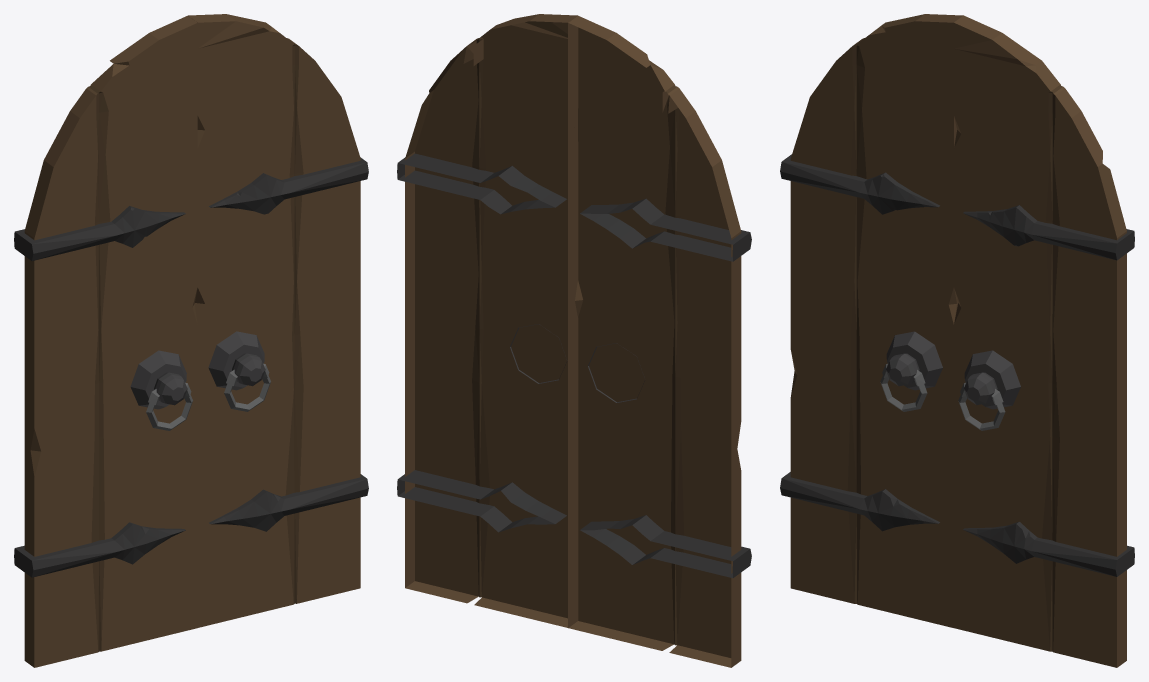
The model's file is SFHW_Building_Door_Empty.fbx.
The picture shows the model from 3 angles, left to right: view 1: azimuth 30°, elevation 25°; view 2: azimuth 150°, elevation 25°; view 3: azimuth 330°, elevation 25°; orthographic projection.
Parts seen in each view (by area): view 1: SFHW_Building_Door_Empty; view 2: SFHW_Building_Door_Empty; view 3: SFHW_Building_Door_Empty.
Part boxes in pixels (x1,y1,x2,y2): SFHW_Building_Door_Empty: [14, 14, 368, 667]; SFHW_Building_Door_Empty: [397, 14, 751, 667]; SFHW_Building_Door_Empty: [780, 14, 1134, 667].
Size of the model in its own units: 126 by 218 by 22.09.
